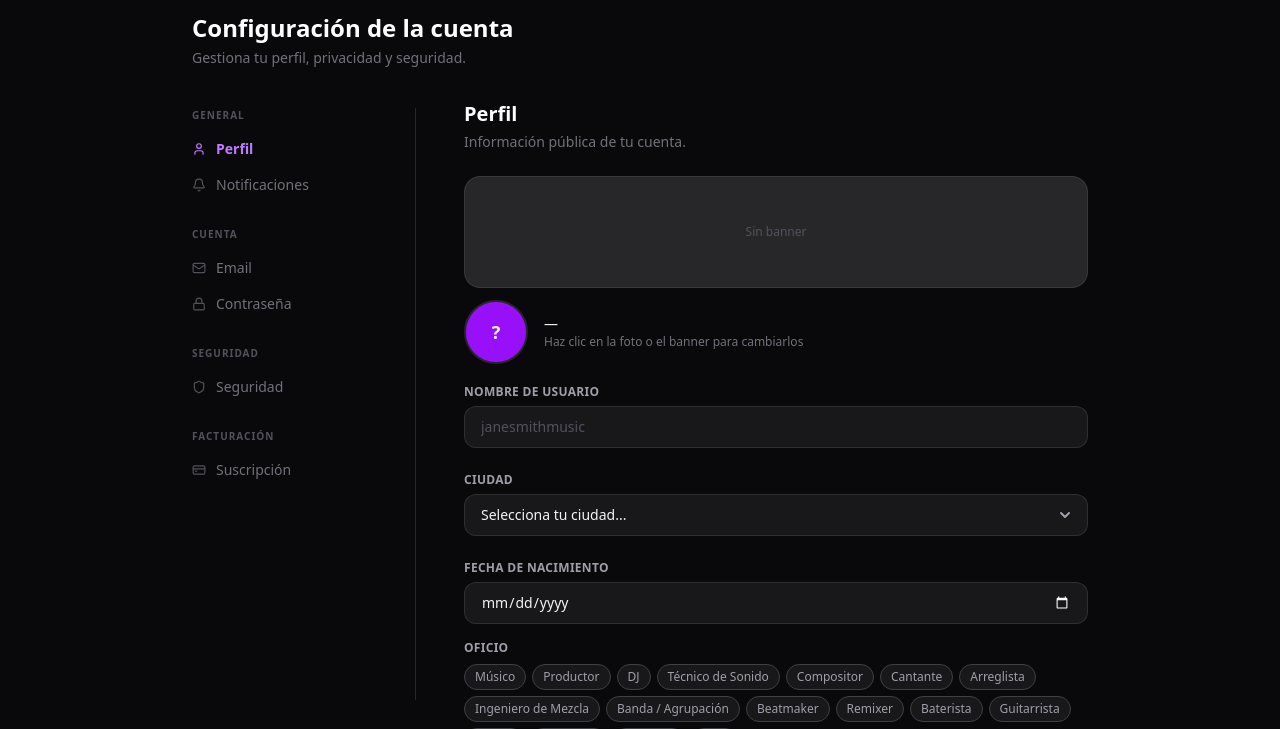
Test: Settings › cambia al panel de Notificaciones al hacer clic en el ítem de nav
The width and height of the screenshot is (1280, 729).
Step 1. Click the button "Notificaciones" → (288, 185), box top-left (192, 167), bottom-right (383, 203)
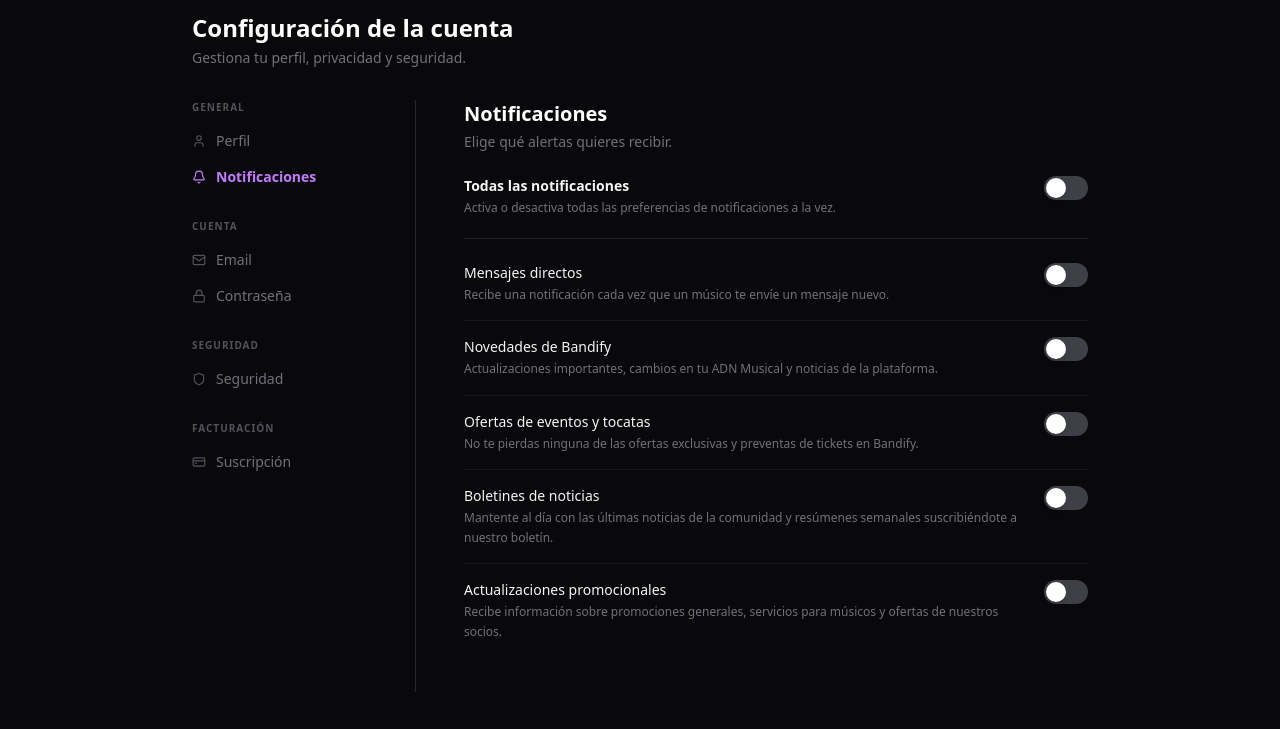
Check: the text "Elige qué alertas quieres recibir." is shown, box top-left (464, 132), bottom-right (672, 151)
Check: the text "Mensajes directos" is shown, box top-left (464, 262), bottom-right (582, 282)
Check: the text "Novedades de Bandify" is shown, box top-left (464, 337), bottom-right (611, 356)
